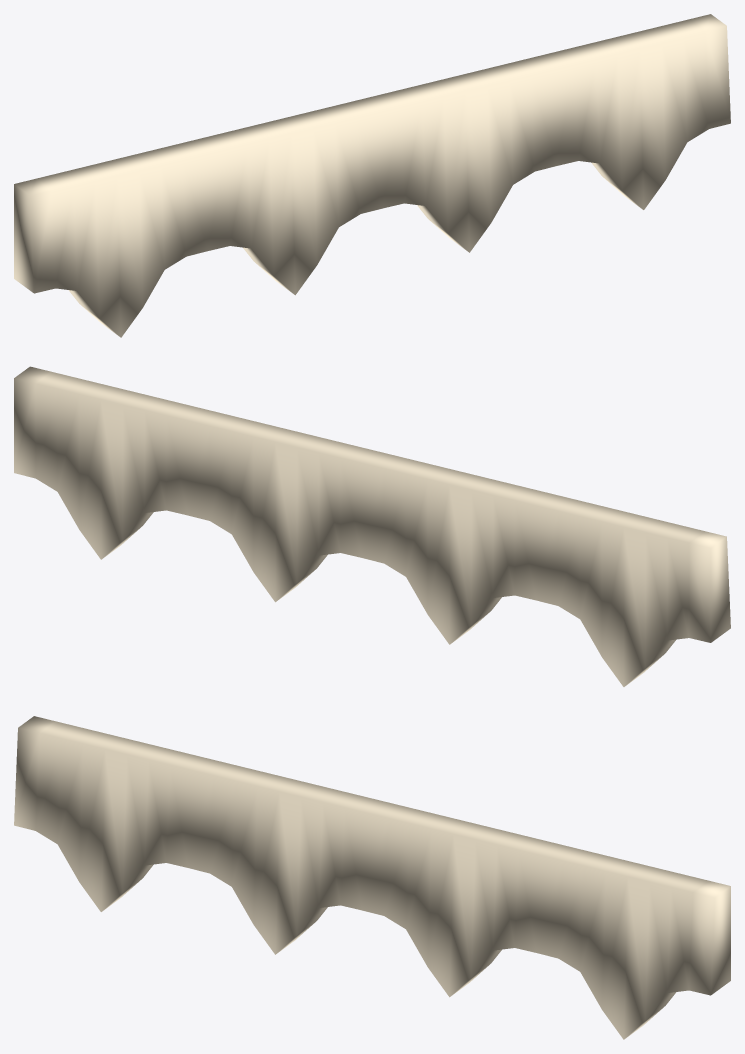
Rendered from CreamDrip.fbx.
The picture shows the model from 3 angles, top to bottom: view 1: azimuth 30°, elevation 25°; view 2: azimuth 150°, elevation 25°; view 3: azimuth 330°, elevation 25°; orthographic projection.
Parts seen in each view (by area): view 1: Repeatable icing; view 2: Repeatable icing; view 3: Repeatable icing.
Part boxes in pixels (bbox=[...]): Repeatable icing: bbox=[14, 14, 730, 337]; Repeatable icing: bbox=[14, 366, 730, 686]; Repeatable icing: bbox=[14, 716, 730, 1039].
Size of the model in its own units: 0.1 by 0.022 by 0.005.
